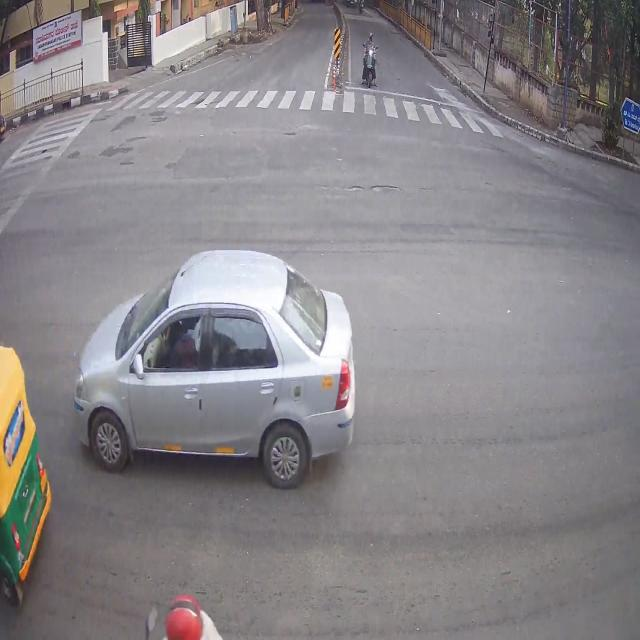Car: (92, 295, 350, 474)
Three-wheeler: (0, 344, 50, 560)
Two-wheelers: (143, 594, 215, 639), (363, 40, 379, 95)
